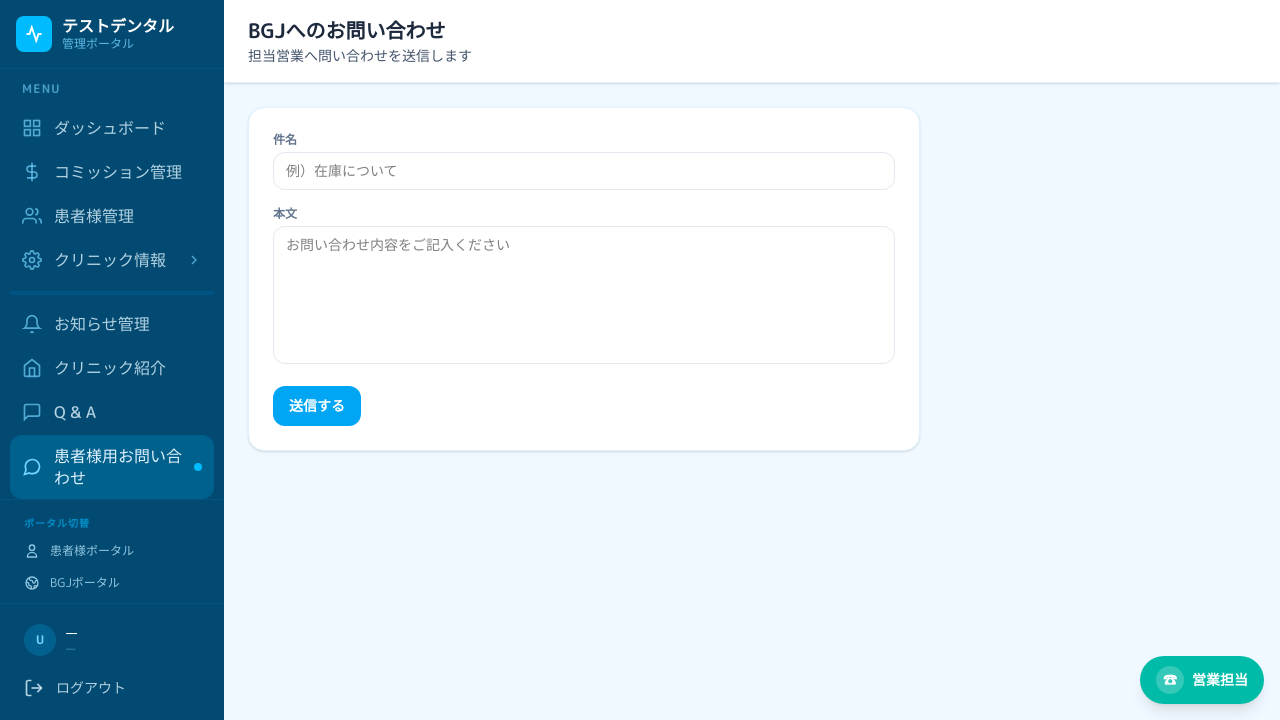
Test: AdminInquiryPage › 未入力で送信するとトースト警告を出し、POSTしない
Step 1. Click the button "送信する" → {"x": 317, "y": 406}, box [273,386,361,426]
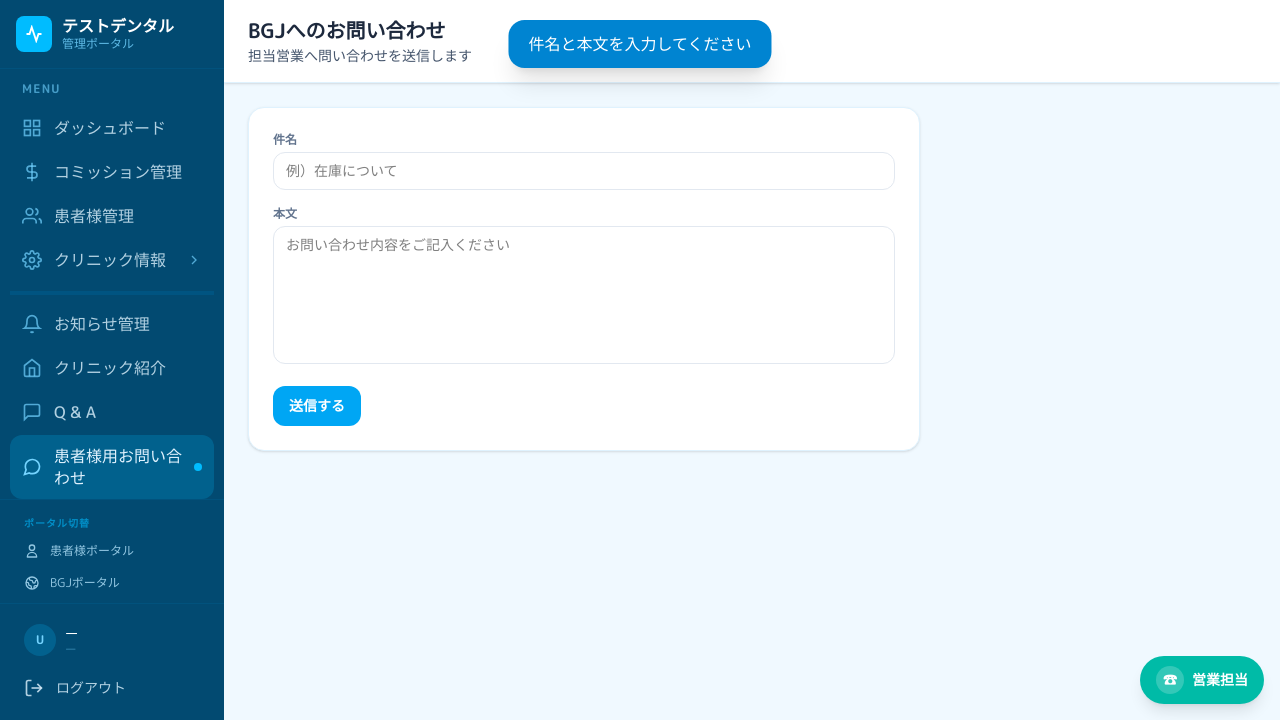
Check: the text "件名と本文を入力してください" is shown, box [508,20,772,68]
